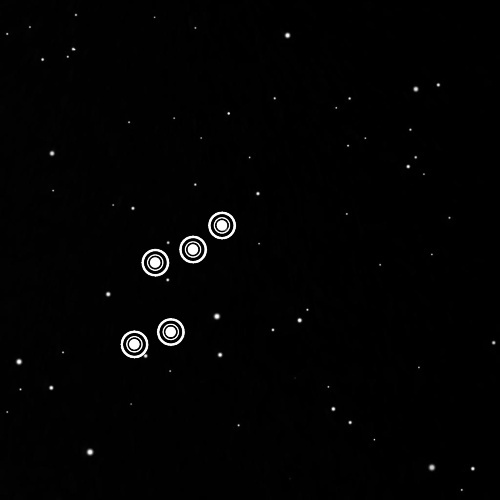lyra: (109, 195, 243, 372)
